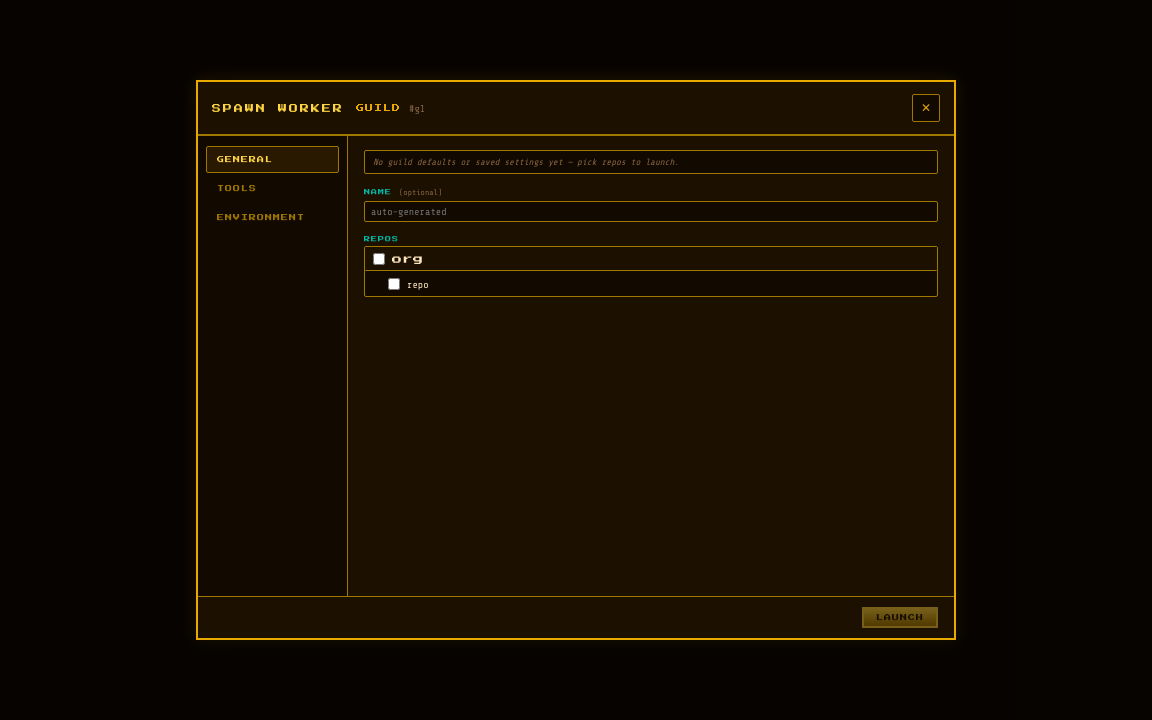
Test: SpawnWorkerForm credentials › shows masked guild env vars
Click the button with class "settings-tab" showing "Environment": (272, 218) x1=206 y1=204 x2=339 y2=231
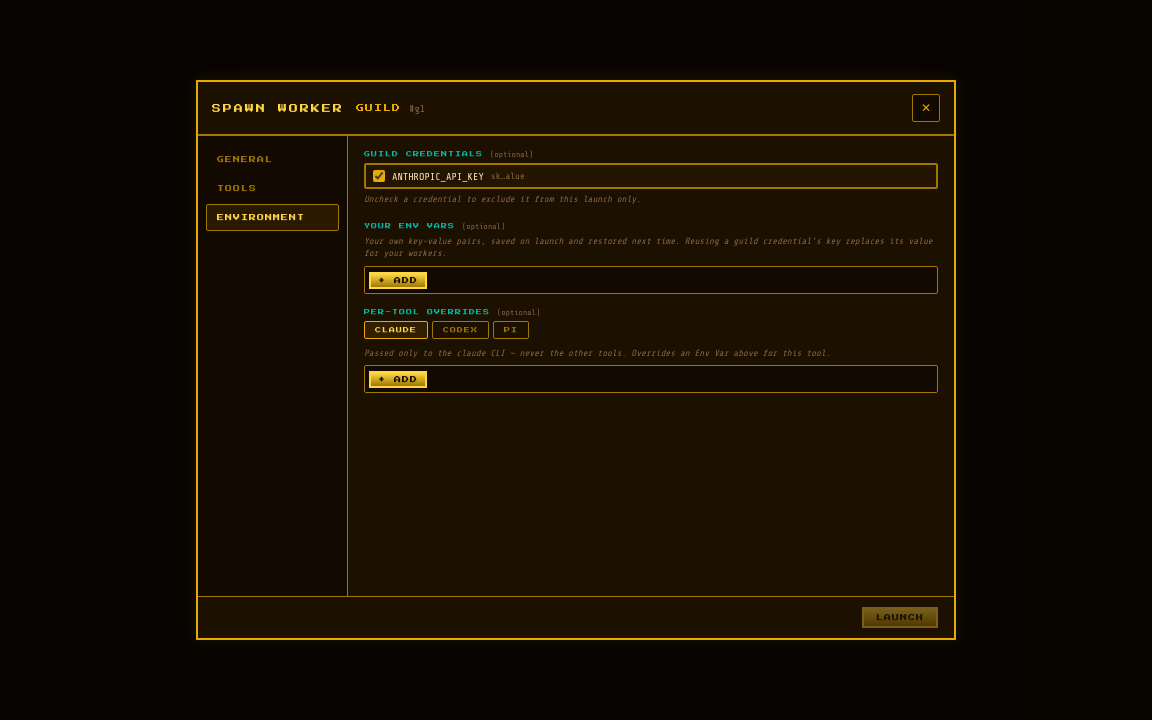
Expected: the text "ANTHROPIC_API_KEY" is shown, x1=392 y1=170 x2=484 y2=182
Expected: the text "sk…alue" is shown, x1=491 y1=171 x2=525 y2=181
